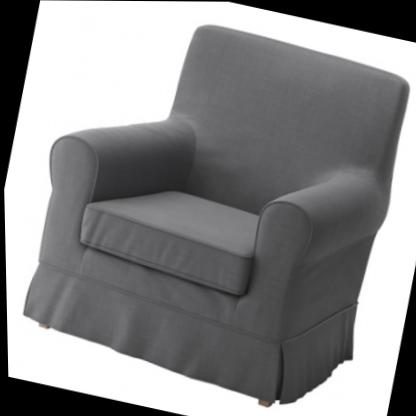Chair: (1, 0, 416, 416)
